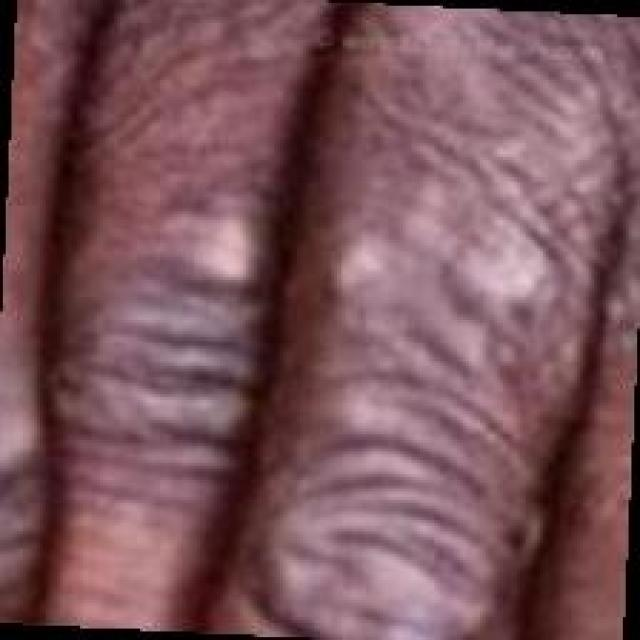monkeypox: (54, 0, 590, 640)
